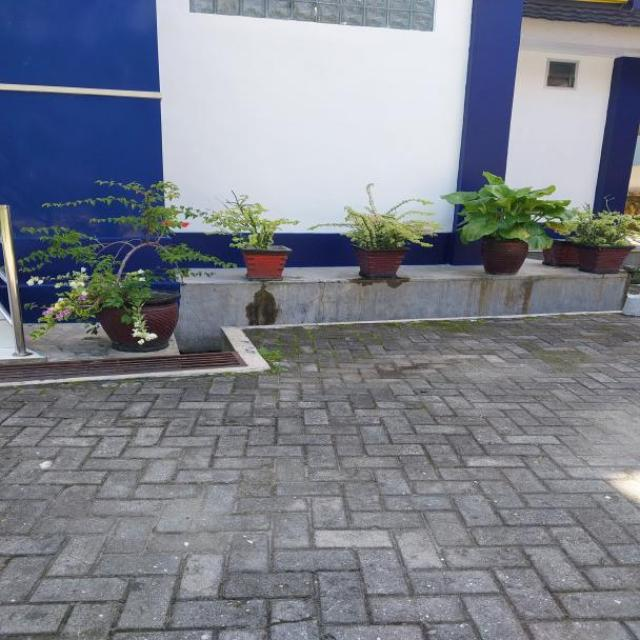plant ahead at: (25, 178, 195, 348), (455, 169, 553, 282), (330, 182, 440, 280), (213, 187, 299, 286), (571, 206, 637, 273)
